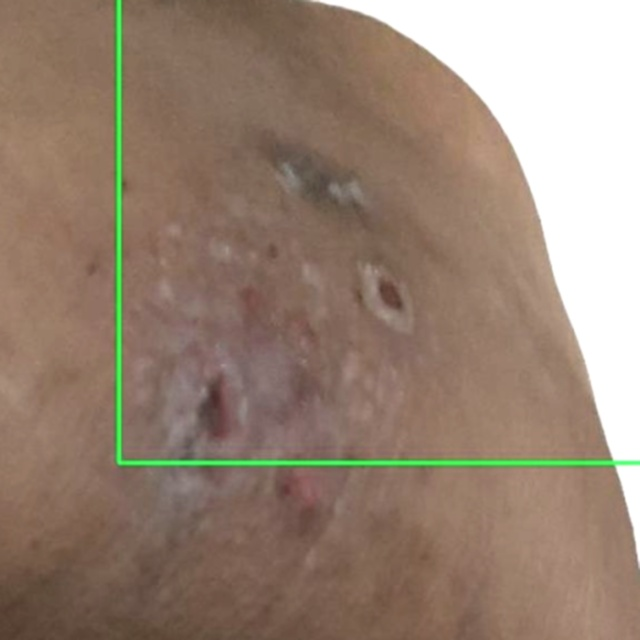Eczema: (119, 0, 639, 462)
